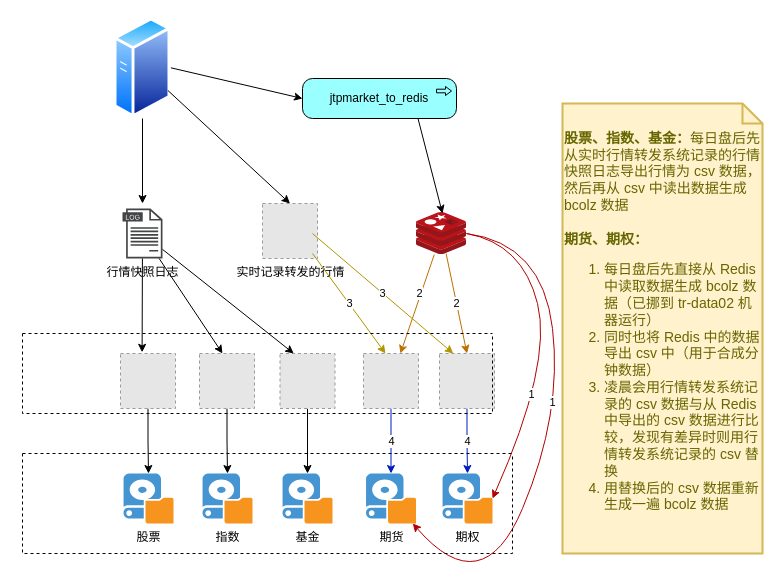
Image size: 780x579. Some labels were removed from this diagram. Grey dashed boxes stand in for pictures. Each missing label, with the centre of its shape:
Redis 实时 Tick 行情: point 441,233
单标的存储的 行情备份数据: point 257,373
存储在 NAS 中的 Bcolz Tick 数据: point 267,503
实时行情分发系统: point 142,67
